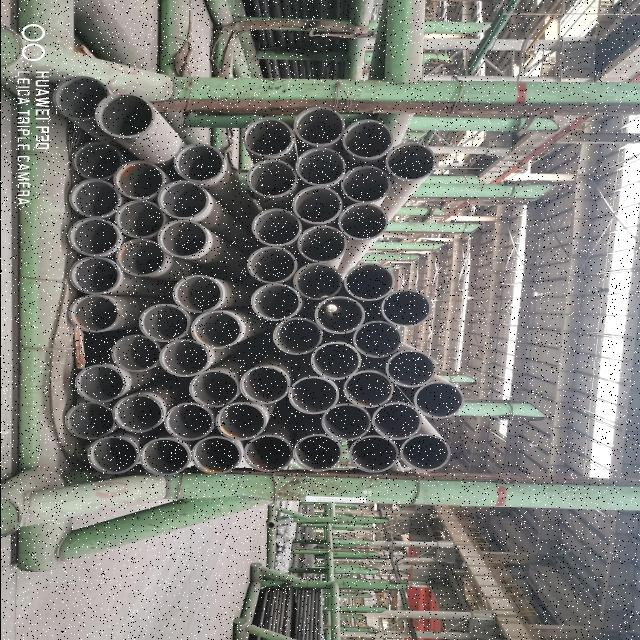pipe: (95, 91, 156, 139), (53, 73, 111, 121), (292, 104, 346, 148), (110, 391, 166, 433), (65, 217, 123, 257), (136, 302, 192, 343), (242, 115, 294, 159), (170, 274, 227, 314), (111, 159, 168, 199), (190, 308, 243, 351), (309, 339, 363, 381), (237, 364, 291, 406), (86, 434, 140, 476), (173, 142, 227, 184), (67, 177, 121, 219), (70, 140, 124, 182), (157, 178, 210, 220), (114, 237, 168, 278), (383, 348, 438, 388), (369, 400, 424, 440), (341, 118, 393, 160), (294, 146, 348, 186), (290, 185, 344, 225), (244, 158, 298, 198), (246, 245, 300, 285), (342, 261, 396, 301), (313, 295, 367, 335), (412, 380, 466, 420), (398, 432, 452, 472), (341, 368, 395, 408), (64, 400, 118, 440), (74, 363, 128, 403), (158, 338, 212, 378), (110, 333, 164, 373), (250, 206, 302, 247), (320, 402, 374, 441), (338, 200, 390, 240), (296, 224, 348, 264), (250, 282, 302, 322), (272, 316, 324, 356), (348, 433, 400, 473), (292, 432, 344, 472), (288, 375, 340, 415), (242, 432, 294, 472), (214, 400, 266, 440), (191, 435, 243, 475), (138, 436, 190, 476), (69, 255, 121, 295), (156, 218, 208, 258), (115, 199, 167, 239), (164, 402, 218, 440), (67, 294, 121, 332), (386, 141, 436, 181), (341, 163, 391, 203), (380, 288, 432, 326), (291, 262, 343, 300), (352, 320, 404, 358), (189, 369, 239, 407)
